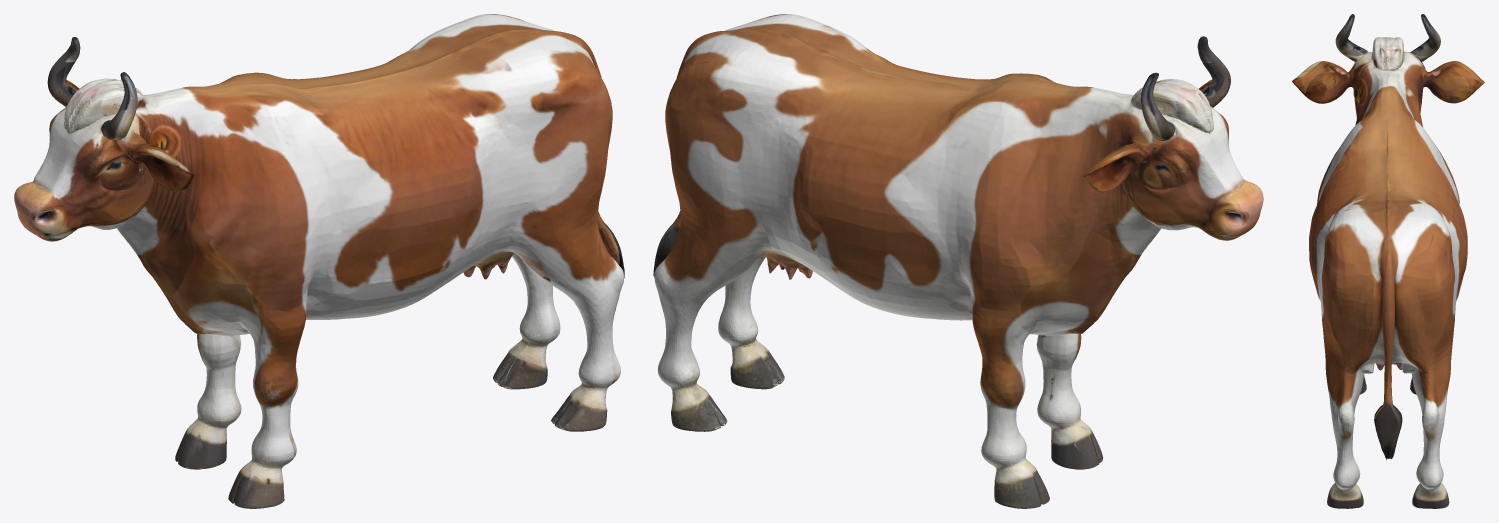
The model's file is una_vaca__0403165033_texture.fbx.
3 views of the same model, side by side, from view 1: azimuth 30°, elevation 25°; view 2: azimuth 150°, elevation 25°; view 3: azimuth 270°, elevation 25° (orthographic). The views are drawn at different scales.
Parts seen in each view (by area): view 1: temp; view 2: temp; view 3: temp.
Boxes of the visible parts, left/top/right/bottom form: temp: left=14, top=14, right=624, bottom=508; temp: left=653, top=14, right=1263, bottom=508; temp: left=1292, top=14, right=1484, bottom=508.
Size of the model in its own units: 199 by 145 by 76.81.
1 material, 1 textured.
